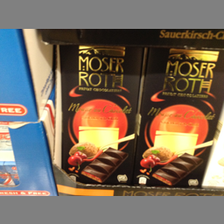chocolate: (135, 46, 223, 189), (60, 45, 144, 186)
